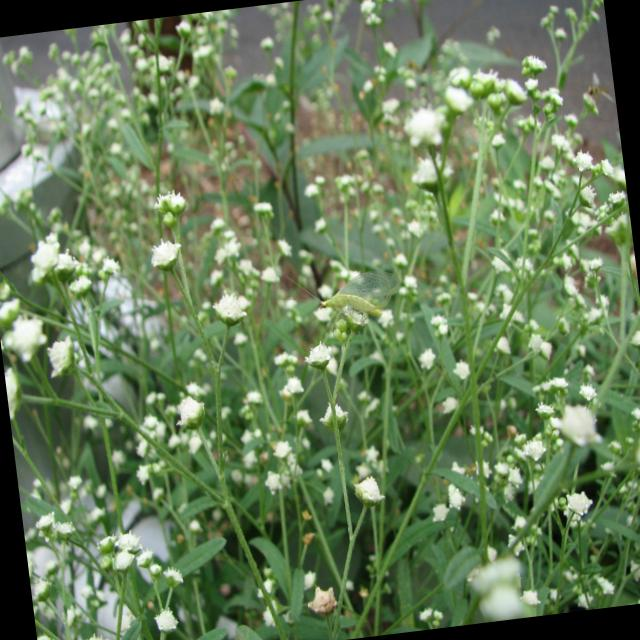Poisonous-Parthenium: (0, 182, 403, 640), (391, 73, 640, 625), (40, 46, 57, 85)
